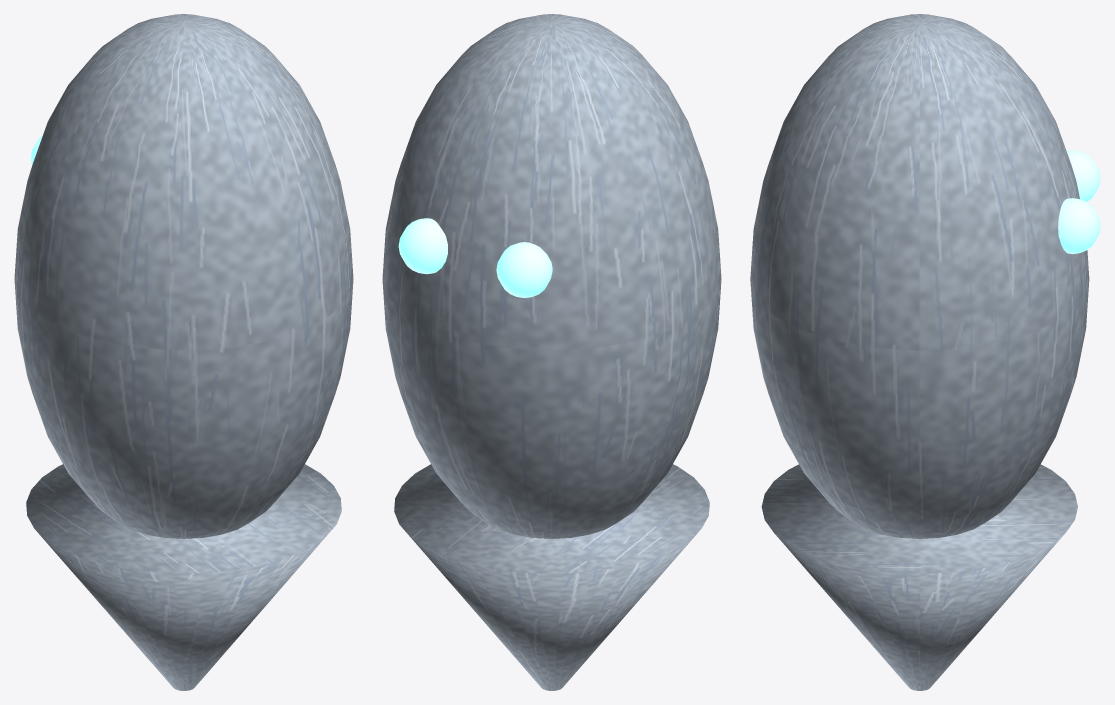
The model's file is specter.glb.
The picture shows the model from 3 angles, left to right: view 1: azimuth 30°, elevation 25°; view 2: azimuth 150°, elevation 25°; view 3: azimuth 270°, elevation 25°; orthographic projection.
Parts seen in each view (by area): view 1: Body, Tail; view 2: Body, Tail, Eye, Eye.001; view 3: Body, Tail, Eye.001, Eye.
Part boxes in pixels (<box>): Body: <box>14,14,353,538</box>; Tail: <box>26,464,341,690</box>; Body: <box>382,14,721,538</box>; Tail: <box>394,464,709,690</box>; Eye: <box>496,242,552,297</box>; Eye.001: <box>398,218,447,274</box>; Body: <box>750,14,1089,538</box>; Tail: <box>761,464,1077,690</box>; Eye.001: <box>1058,198,1100,254</box>; Eye: <box>1066,150,1100,201</box>.
Bounding box in the file's own units: 0.4633 × 1 × 0.4788.
2 materials, 1 textured.
